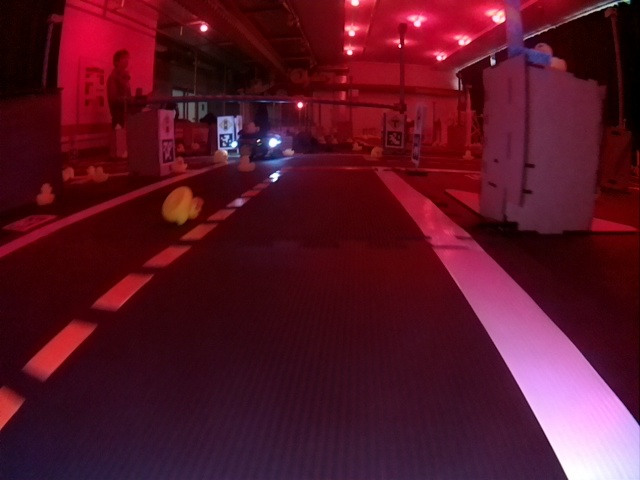Duckie: (164, 187, 202, 224), (36, 185, 54, 202), (240, 157, 255, 171), (94, 167, 108, 181)
Intersection sign: (387, 114, 402, 131)
QR code: (161, 143, 175, 159), (387, 132, 401, 146), (221, 135, 234, 148)
Signal sign: (160, 114, 174, 137), (219, 118, 233, 131)
Traffic light: (296, 102, 306, 110)
